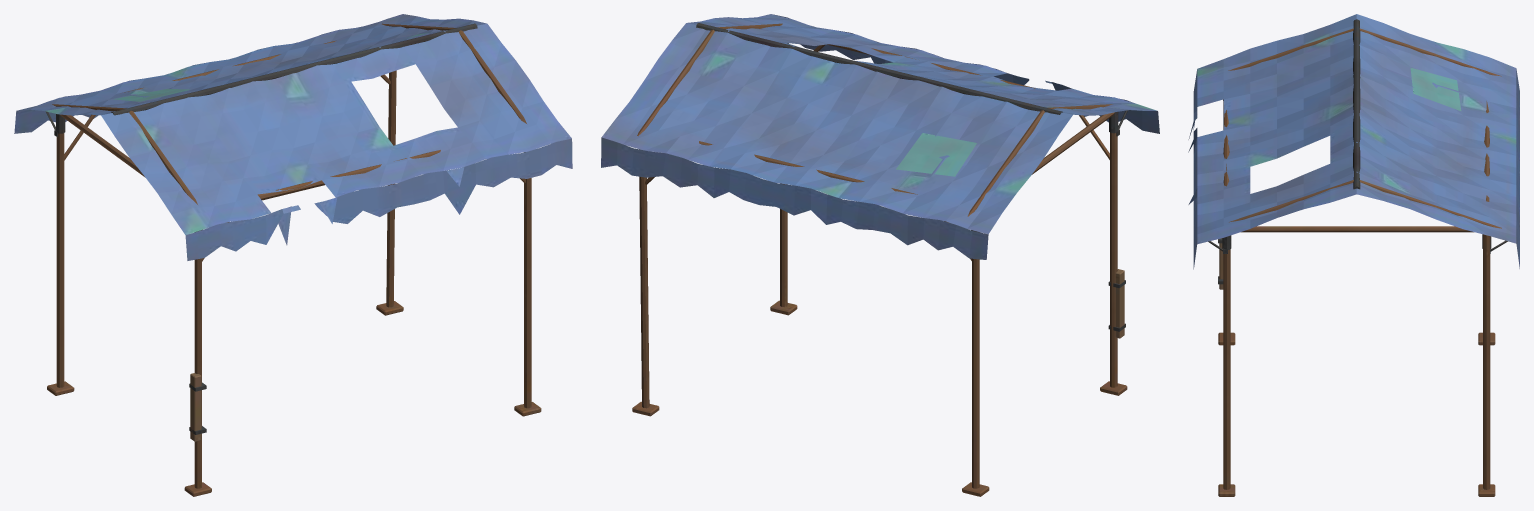
Rendered from W23_tarpaulin_stall_roof.glb.
3 renders of one model, left to right at view 1: azimuth 30°, elevation 25°; view 2: azimuth 150°, elevation 25°; view 3: azimuth 270°, elevation 25°, orthographic. The views are drawn at different scales.
Parts seen in each view (by area): view 1: Rusty upright; view 2: Rusty upright; view 3: Rusty upright.
Boxes of the visible parts, x1,y1,x2,y2 form: Rusty upright: (14, 14, 572, 496); Rusty upright: (601, 14, 1159, 496); Rusty upright: (1188, 14, 1519, 496).
Size of the model in its own units: 3 by 2.47 by 2.37.
6 materials, 6 textured.
